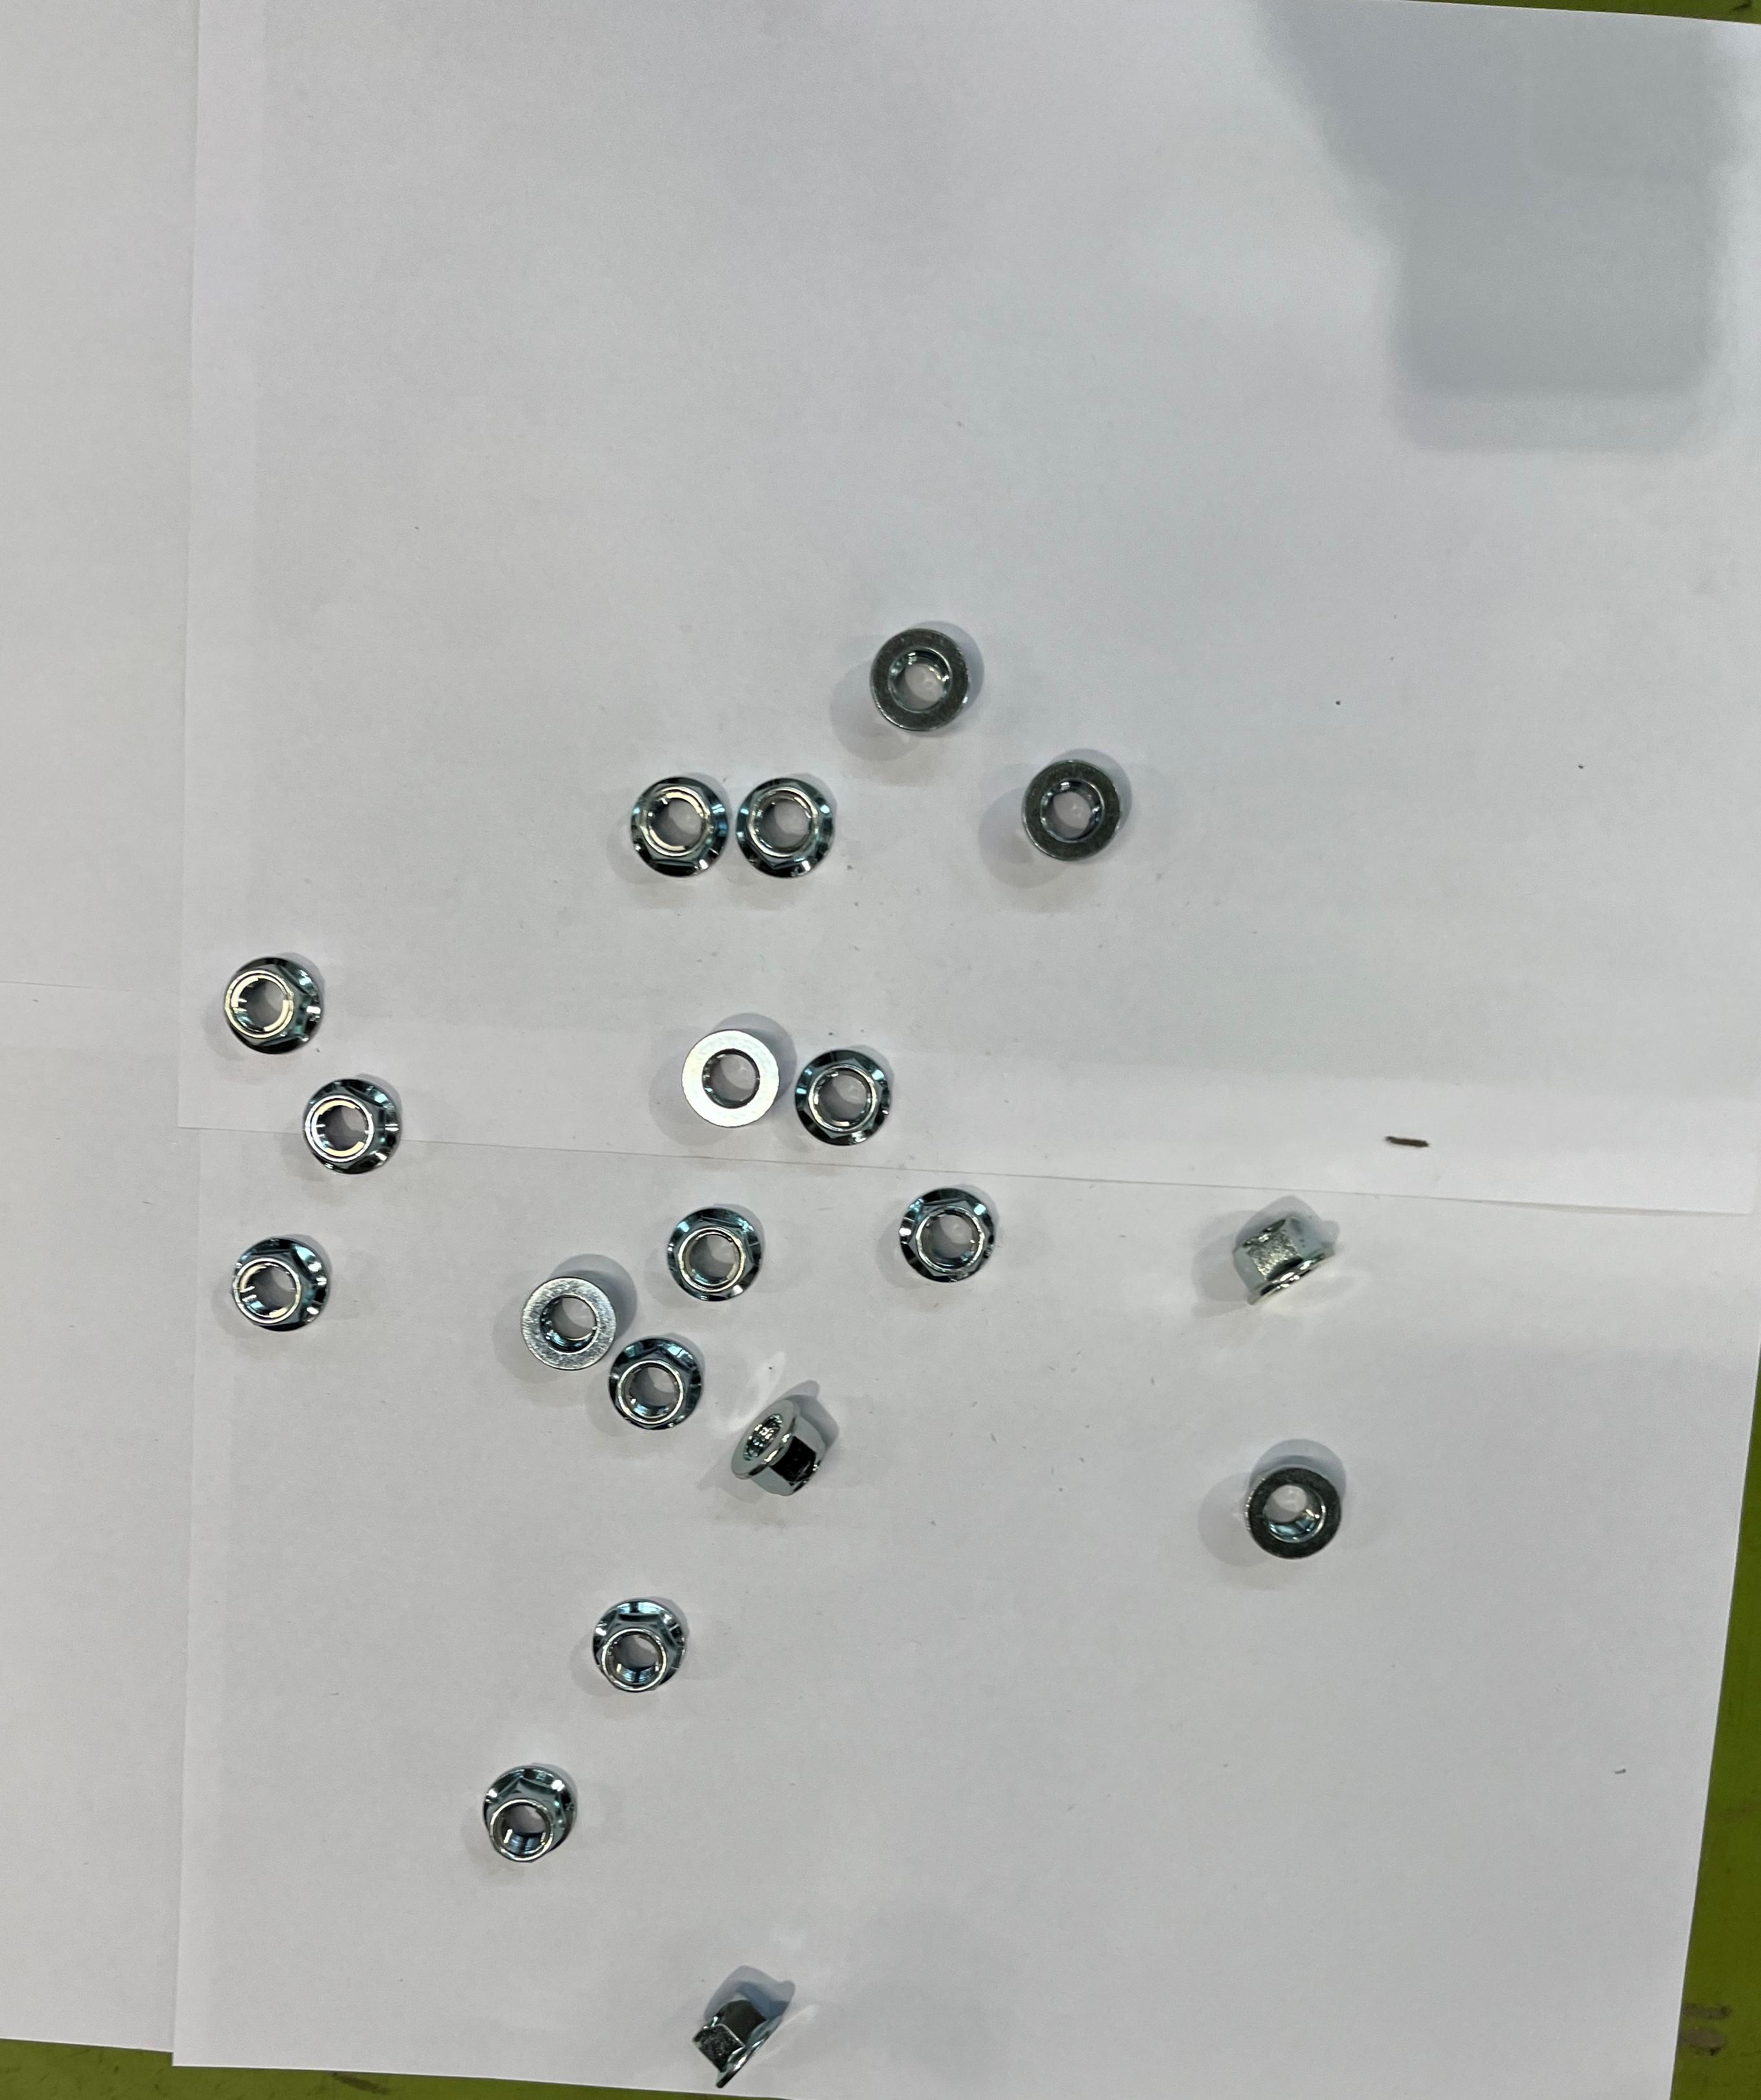Type B: (1022, 750, 1134, 861), (627, 777, 734, 884), (870, 631, 971, 743), (737, 776, 840, 879), (1228, 1212, 1336, 1310), (680, 1027, 781, 1130), (589, 1599, 694, 1698), (222, 957, 325, 1057), (1242, 1461, 1342, 1560), (900, 1185, 996, 1286), (795, 1050, 891, 1148), (732, 1403, 830, 1499), (229, 1239, 328, 1333), (667, 1207, 763, 1303), (482, 1765, 575, 1862), (521, 1277, 615, 1371), (610, 1335, 702, 1431), (306, 1078, 398, 1174), (694, 1997, 786, 2090)
